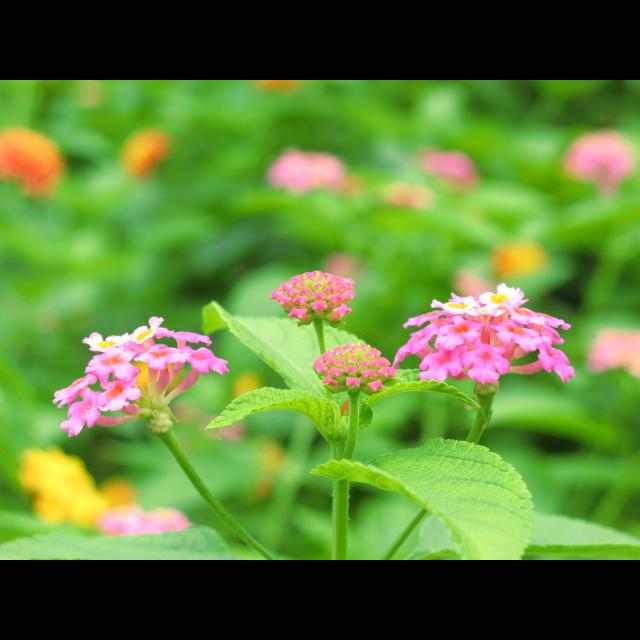Flower: (394, 280, 570, 404), (52, 317, 230, 439), (19, 442, 110, 530), (563, 126, 631, 198), (268, 272, 358, 320), (312, 343, 394, 392), (0, 128, 60, 194), (99, 502, 197, 534), (268, 154, 342, 196), (587, 329, 639, 375), (122, 130, 168, 173), (424, 152, 474, 182), (494, 240, 538, 270), (387, 182, 433, 208), (456, 269, 486, 307), (98, 479, 132, 508), (323, 260, 362, 274), (237, 373, 251, 402)
